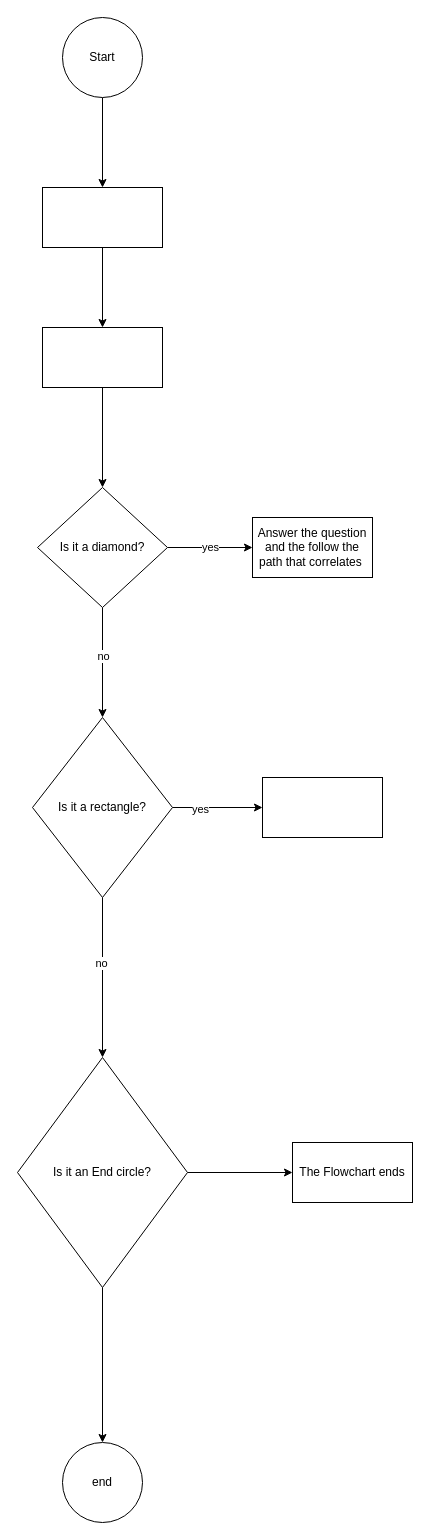
Some shapes in this 430 by 1540 pixel diagram are drawn without their labels. Each missing label, with the box of its shape:
Follow the arrow to the next command: (42, 326, 162, 388)
Perform the Command.: (262, 776, 382, 838)
Start at the Start comand: (42, 186, 162, 248)
